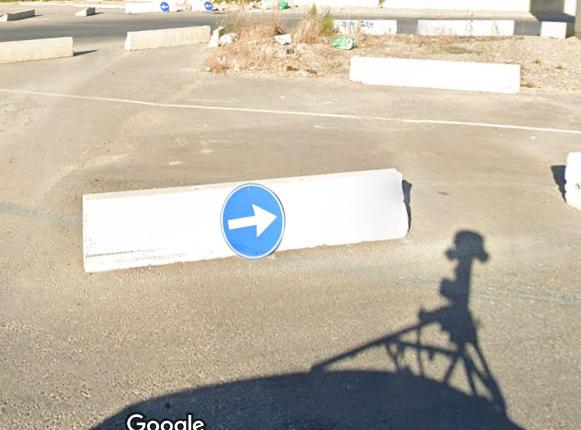turnright: (213, 178, 293, 264)
